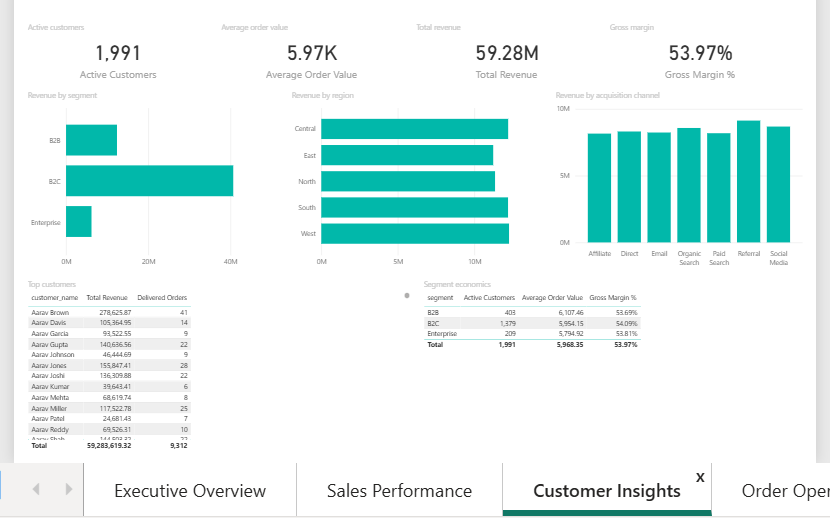

The page's visual inventory and layout, read from the dashboard file:
{"tool":"powerbi","page":{"name":"Customer Insights","canvas":[1280,720],"ordinal":2},"visuals":[{"type":"card","title":"Active customers","fields":{"Values":["Fact_Orders.Active Customers"]},"box":[16,16,298,96],"z":0},{"type":"card","title":"Average order value","fields":{"Values":["Fact_Orders.Average Order Value"]},"box":[326,16,298,96],"z":0},{"type":"card","title":"Total revenue","fields":{"Values":["Fact_Orders.Total Revenue"]},"box":[636,16,298,96],"z":0},{"type":"card","title":"Gross margin","fields":{"Values":["Fact_Orders.Gross Margin %"]},"box":[946,16,298,96],"z":0},{"type":"barChart","title":"Revenue by segment","fields":{"Category":["Dim_Customers.segment"],"Y":["Fact_Orders.Total Revenue"]},"box":[16,124,410,290],"z":0},{"type":"barChart","title":"Revenue by region","fields":{"Category":["Dim_Customers.region"],"Y":["Fact_Orders.Total Revenue"]},"box":[438,124,410,290],"z":0},{"type":"clusteredColumnChart","title":"Revenue by acquisition channel","fields":{"Category":["Dim_Customers.acquisition_channel"],"Y":["Fact_Orders.Total Revenue"]},"box":[860,124,404,290],"z":0},{"type":"tableEx","title":"Top customers","fields":{"Values":["Dim_Customers.customer_name","Fact_Orders.Total Revenue","Fact_Orders.Delivered Orders"]},"box":[16,426,620,278],"z":0},{"type":"tableEx","title":"Segment economics","fields":{"Values":["Dim_Customers.segment","Fact_Orders.Active Customers","Fact_Orders.Average Order Value","Fact_Orders.Gross Margin %"]},"box":[648,426,616,278],"z":0}]}

Visuals, with their boxes on the page's 1280x720 design canvas (x1, y1, x2, y2). These are canvas units, not pixel positions in the 830x518 screenshot, which may show the page scaled, cropped or inside an application window:
"Active customers" card: left=16, top=16, right=314, bottom=112
"Average order value" card: left=326, top=16, right=624, bottom=112
"Total revenue" card: left=636, top=16, right=934, bottom=112
"Gross margin" card: left=946, top=16, right=1244, bottom=112
"Revenue by segment" barChart: left=16, top=124, right=426, bottom=414
"Revenue by region" barChart: left=438, top=124, right=848, bottom=414
"Revenue by acquisition channel" clusteredColumnChart: left=860, top=124, right=1264, bottom=414
"Top customers" tableEx: left=16, top=426, right=636, bottom=704
"Segment economics" tableEx: left=648, top=426, right=1264, bottom=704
